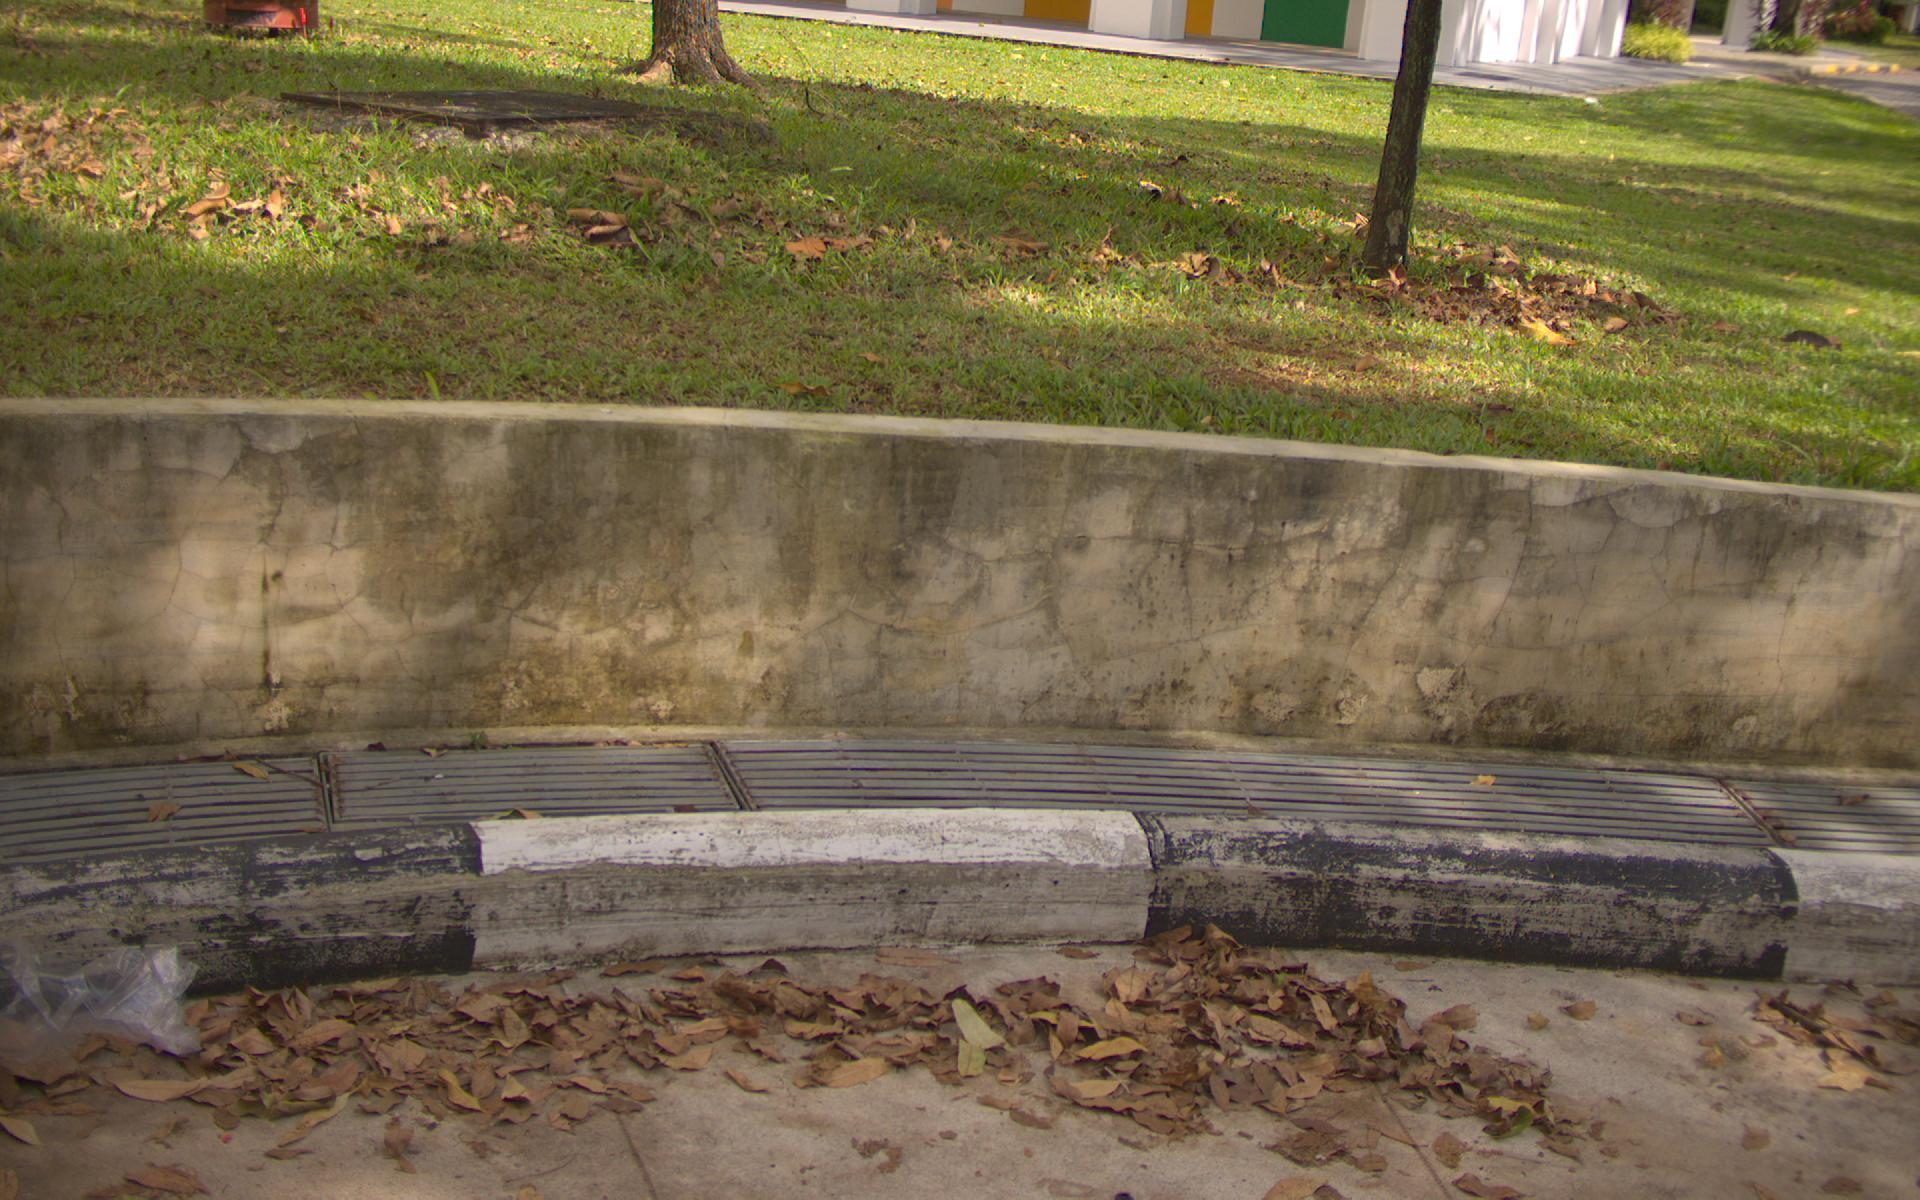curb_dic_low: (73, 742, 1920, 807)
road_curb_medium: (46, 993, 1920, 1199)
road_turf_low: (15, 105, 1920, 393)
